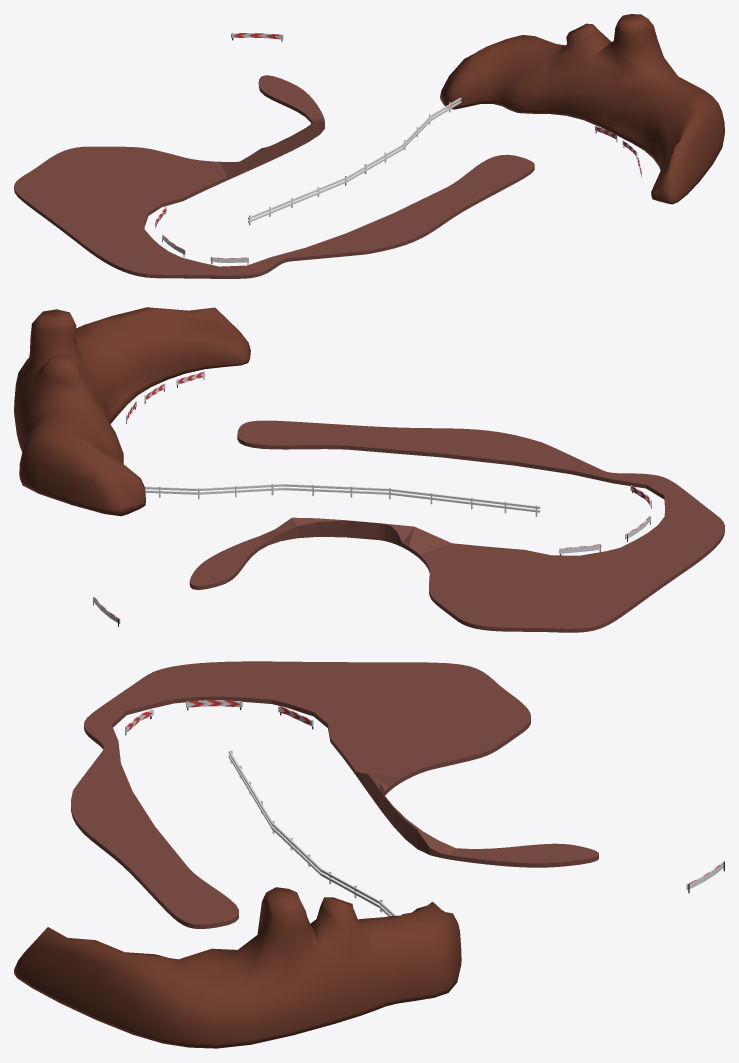
File: bounds.glb
3 renders of one model, top to bottom at view 1: azimuth 30°, elevation 25°; view 2: azimuth 150°, elevation 25°; view 3: azimuth 270°, elevation 25°, orthographic. The views are drawn at different scales.
Visible parts, largest first — view 1: Wall2, Hill, Cube, CurveSign2; view 2: Wall2, Hill, Cube, CurveSign2; view 3: Wall2, Hill, Cube, CurveSign2.
Boxes of the visible parts, box(x1,y1,x2,y2) form: Wall2: box(14, 75, 534, 278); Hill: box(440, 14, 724, 204); Cube: box(248, 97, 461, 225); CurveSign2: box(155, 206, 248, 264); Wall2: box(189, 420, 724, 632); Hill: box(14, 307, 250, 516); Cube: box(145, 484, 540, 516); CurveSign2: box(559, 485, 651, 555); Wall2: box(71, 661, 598, 928); Hill: box(14, 887, 461, 1048); Cube: box(228, 750, 395, 916); CurveSign2: box(125, 700, 313, 735).
Size of the model in its own units: 6.48 by 0.9988 by 5.13.
